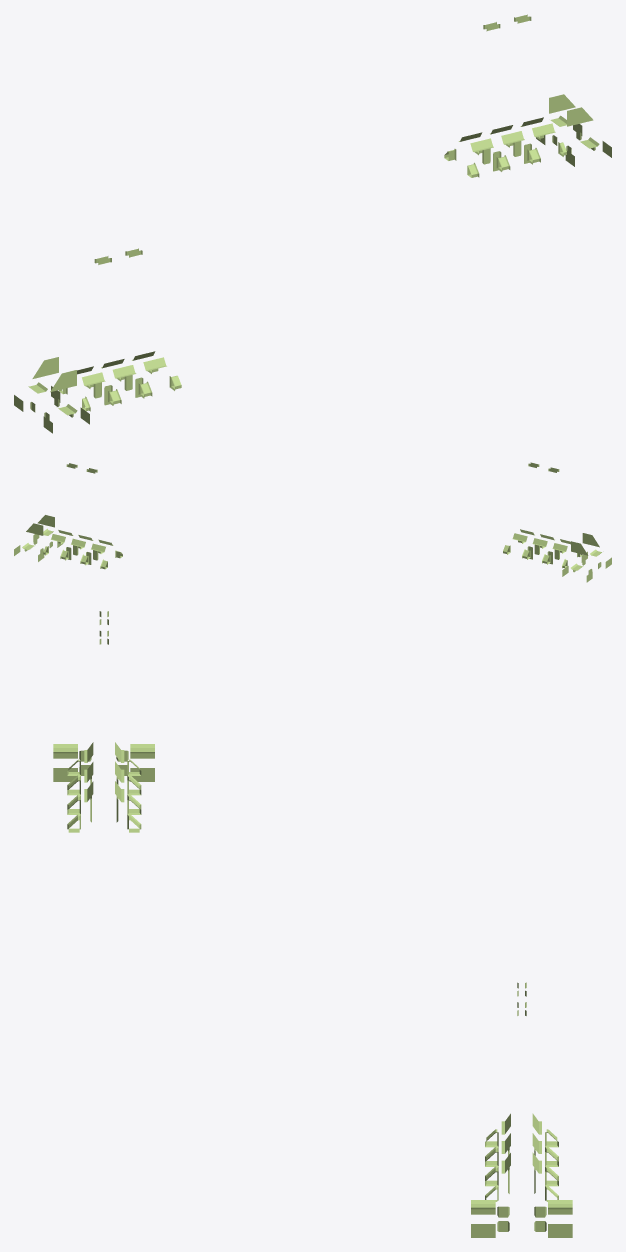
Rendered from cluster15.fbx.
The picture shows the model from 3 angles, top to bottom: view 1: azimuth 30°, elevation 25°; view 2: azimuth 150°, elevation 25°; view 3: azimuth 270°, elevation 25°; orthographic projection. The views are drawn at different scales.
Parts seen in each view (by area): view 1: cluster15; view 2: cluster15; view 3: cluster15.
Boxes of the visible parts, x1,y1,x2,y2 form: cluster15: [14, 14, 611, 433]; cluster15: [14, 462, 611, 582]; cluster15: [53, 611, 572, 1237].
Size of the model in its own units: 595406 by 127658 by 286151.
